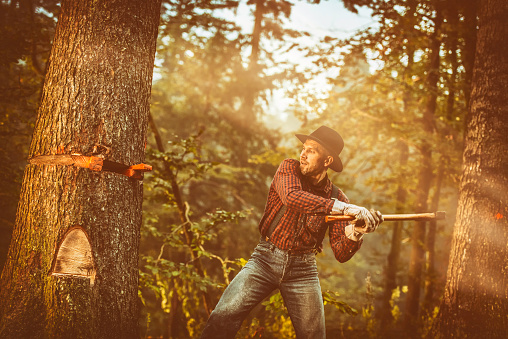em pe: (193, 129, 359, 339)
